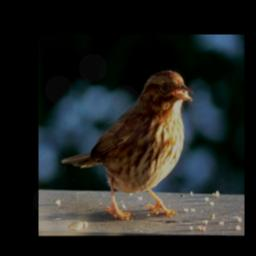Sparrow: (57, 67, 193, 220)
